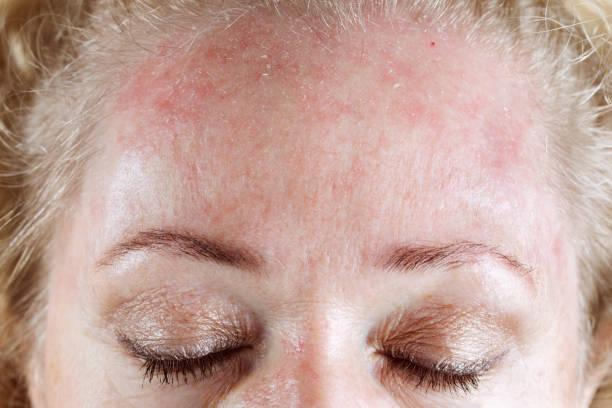Dry-Skin: (93, 120, 218, 271), (116, 266, 311, 358), (416, 278, 552, 396), (299, 20, 452, 122), (286, 218, 418, 332), (163, 81, 317, 177), (462, 10, 589, 114), (447, 131, 539, 274), (149, 0, 300, 73), (326, 94, 416, 170), (476, 112, 573, 129)
